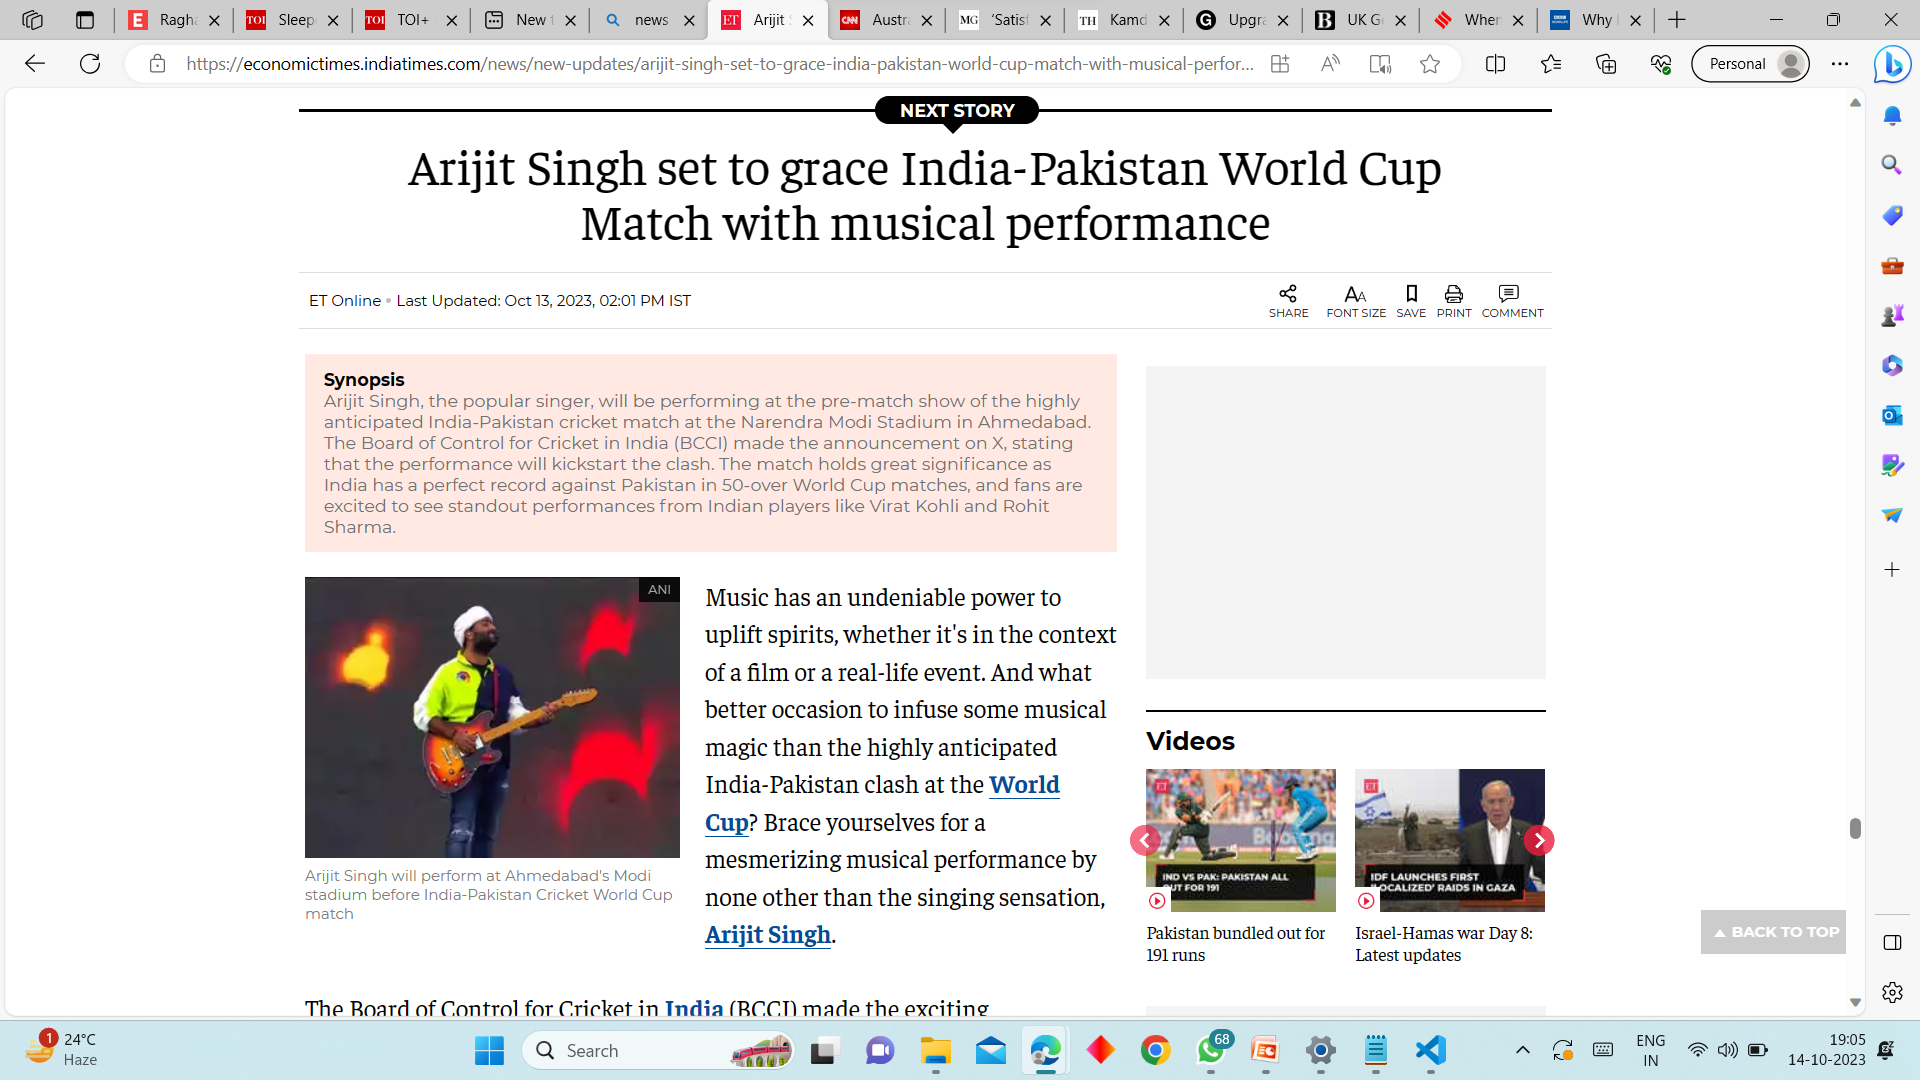Paragraph: (682, 579, 1134, 968), (376, 135, 1524, 251), (319, 396, 1096, 533), (306, 864, 673, 955), (298, 280, 704, 331), (1341, 915, 1536, 977), (1138, 919, 1331, 981), (305, 349, 430, 392)
